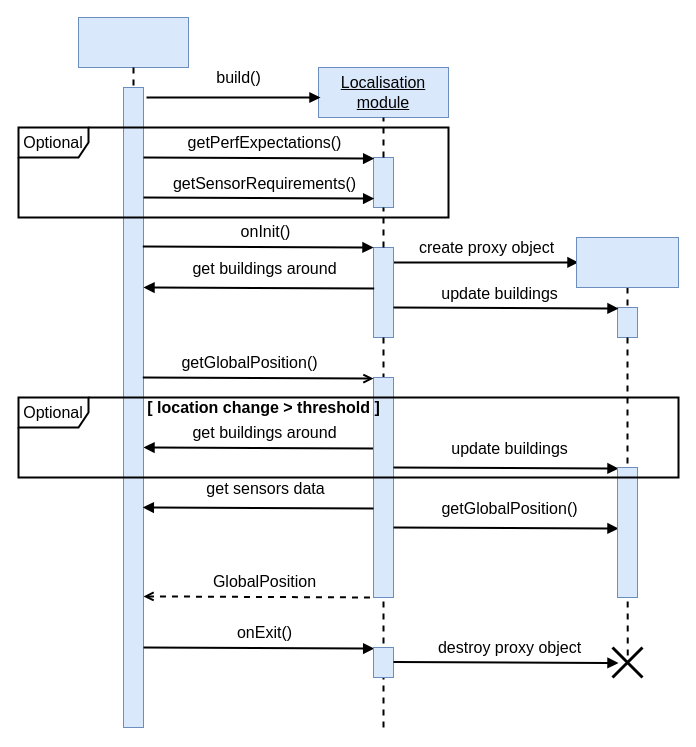
This 696x747 diagram has some shape labels left out. The centre of each missing label's shape, as x and y in pixels:
Application: (133,42)
Native code: (627,262)
